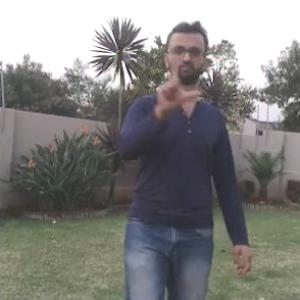land_hand: (154, 54, 202, 111)
